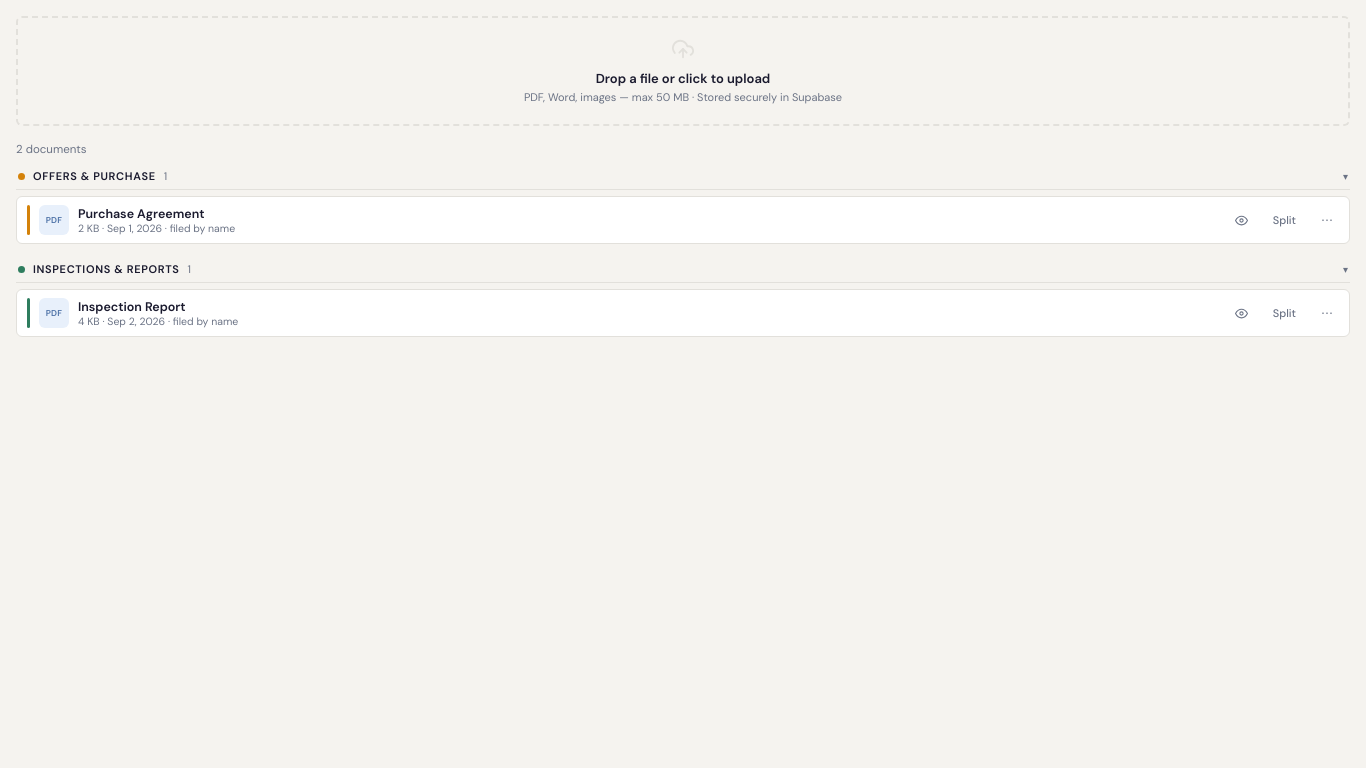
Documents tab — Quick Look › goes from the preview straight into Split, reusing the bytes it already has
Click the button "Purchase Agreement" at point(141, 214), box 78,206 -> 204,222
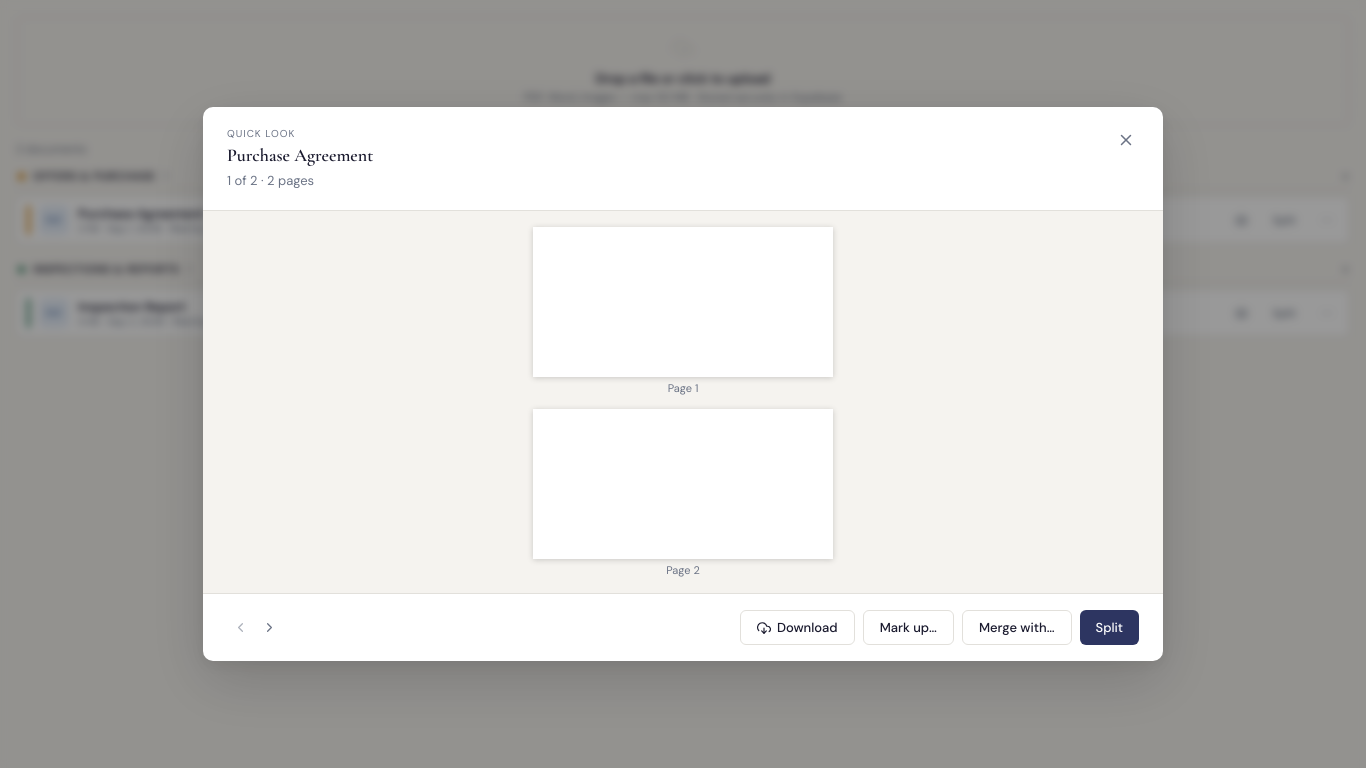
Click the button "Split" at point(1109, 628), box 1080,610 -> 1139,645
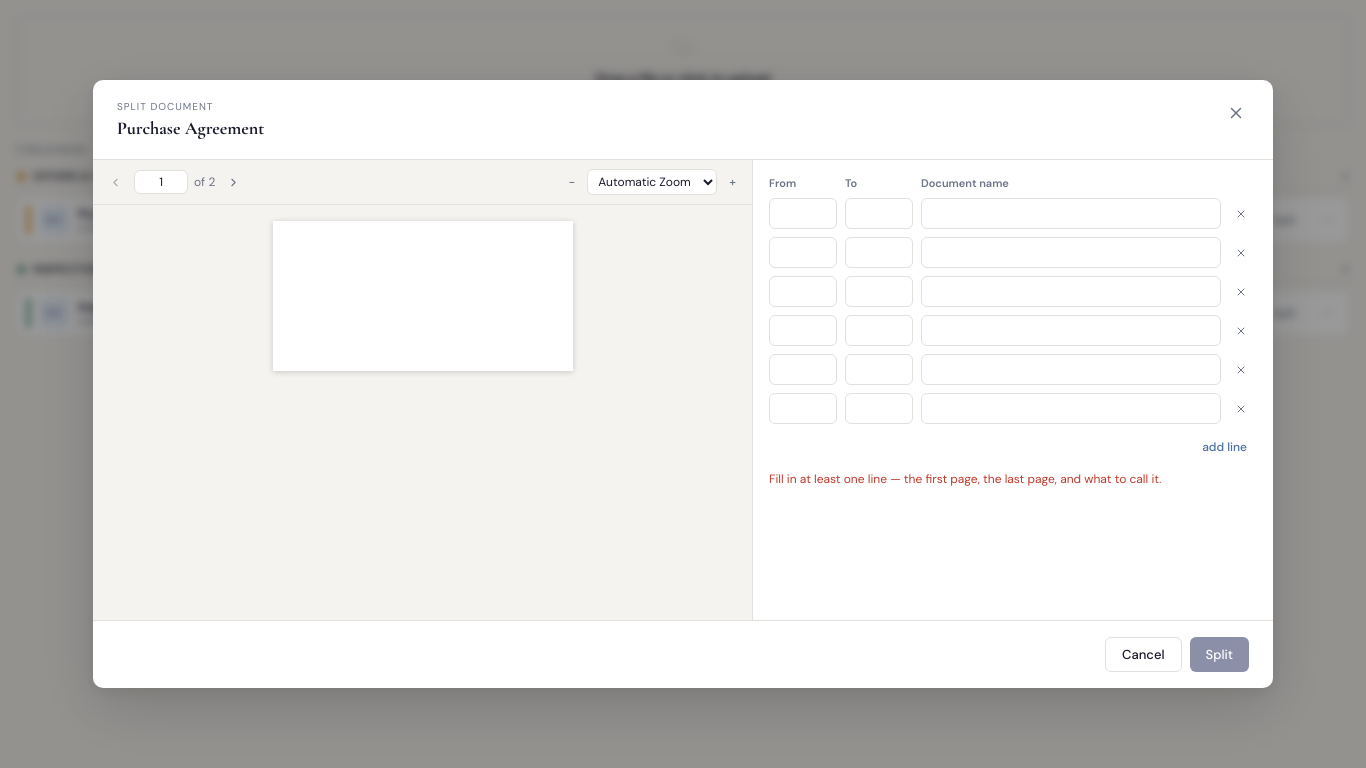
Expected: the text "Quick look" is gone
Expected: the text "Split document" is shown, 117,100 -> 213,113
